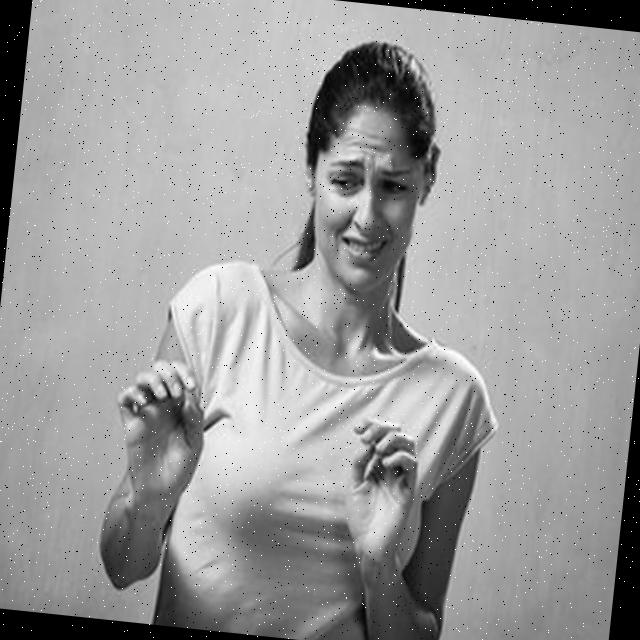Disgust: (304, 102, 431, 298)
